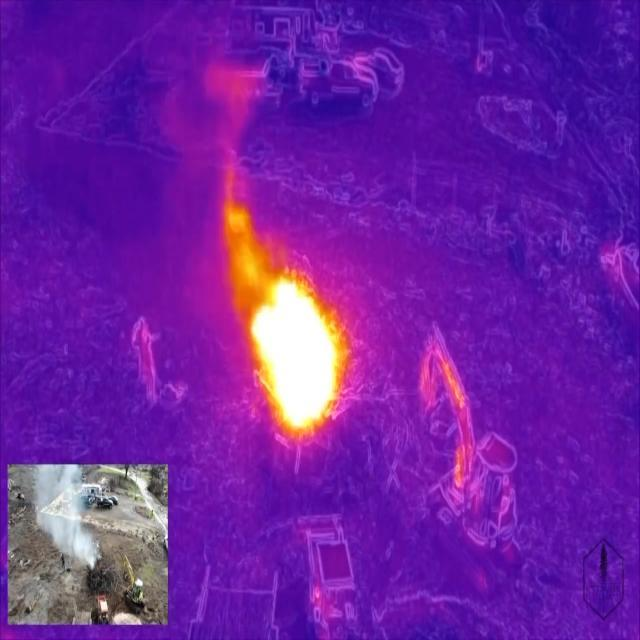fire: (247, 260, 342, 436)
